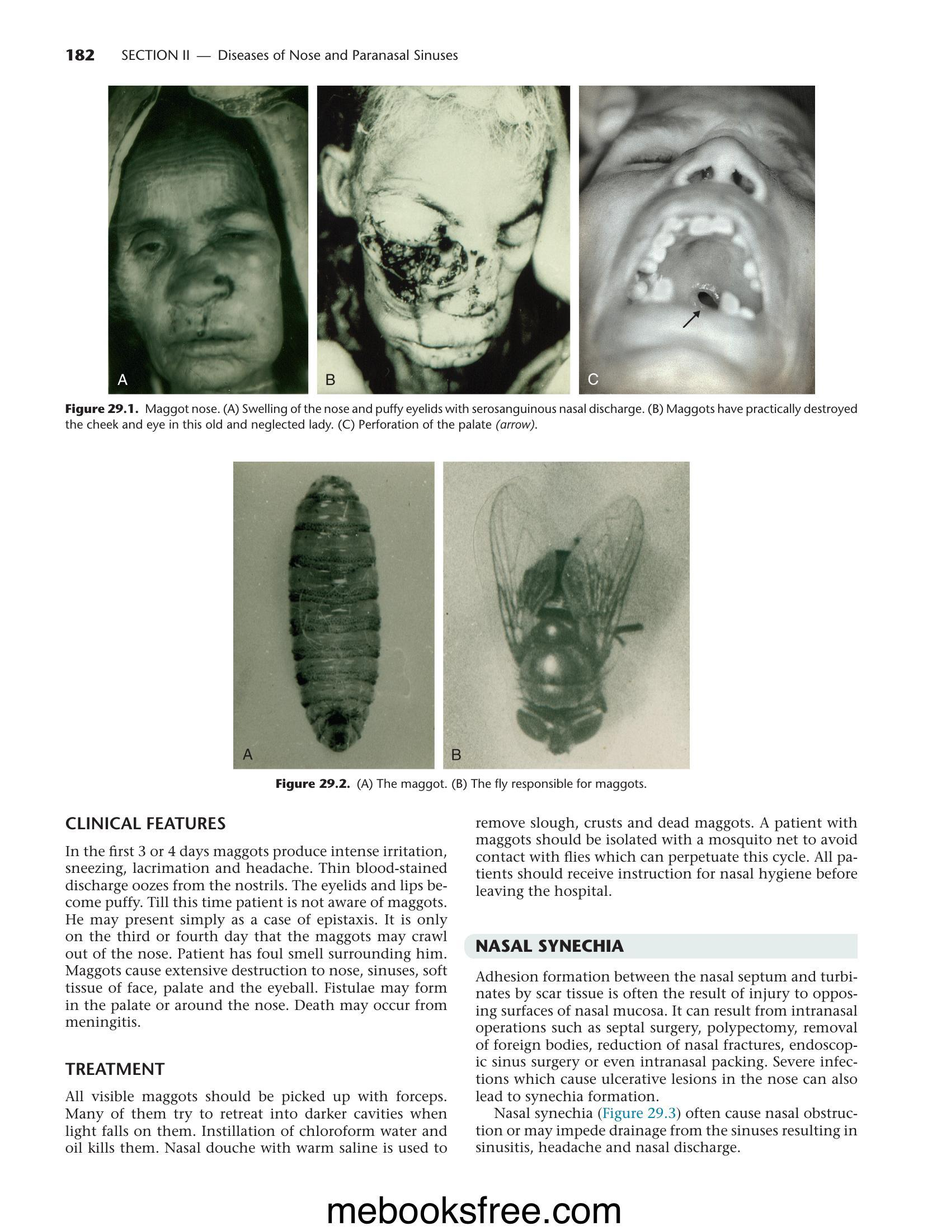caption: (64, 402, 858, 433), (275, 777, 649, 792), (241, 747, 254, 760), (117, 373, 129, 386), (588, 372, 599, 386), (451, 748, 462, 761), (325, 373, 336, 386)
image: (317, 85, 570, 395), (443, 461, 689, 769), (578, 85, 815, 395), (232, 462, 435, 770), (108, 85, 309, 395)
section-heading: (475, 939, 626, 953)
sub-section-heading: (65, 815, 226, 831), (65, 1062, 166, 1076)
text: (474, 969, 858, 1158), (64, 844, 449, 1032), (474, 816, 858, 901), (64, 1089, 448, 1154)
